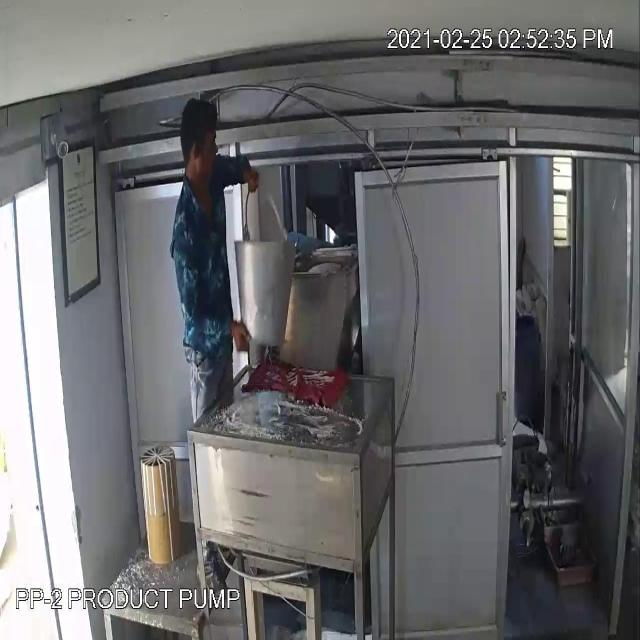no-helmet: (174, 83, 220, 150)
